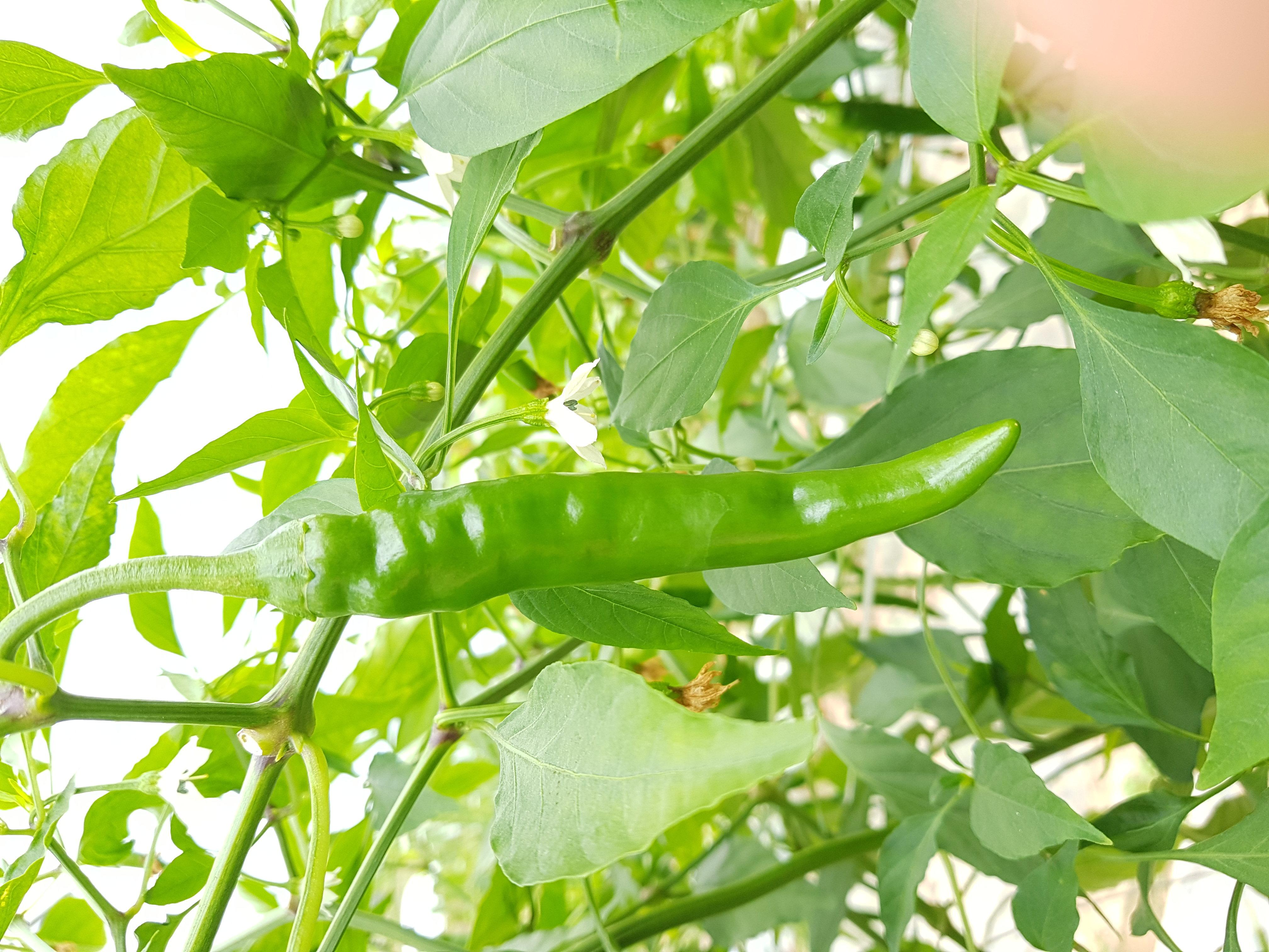Buah Cabai Sehat: (242, 414, 1023, 628), (480, 655, 821, 890)
